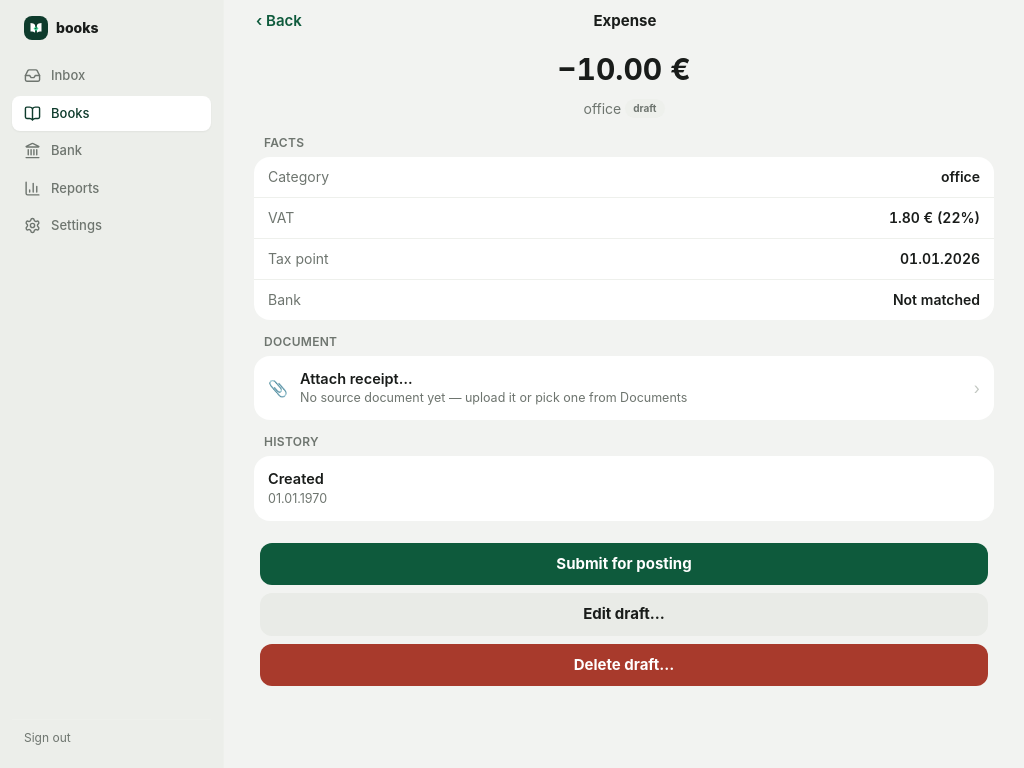
it: unsaved-changes guard on the production routes (#250) › same screen, another object: asks, and after Discard no sheet or draft follows to the new id
Click the button "Edit draft…". click: (624,614)
box: top-left (260, 593), bottom-right (988, 636)
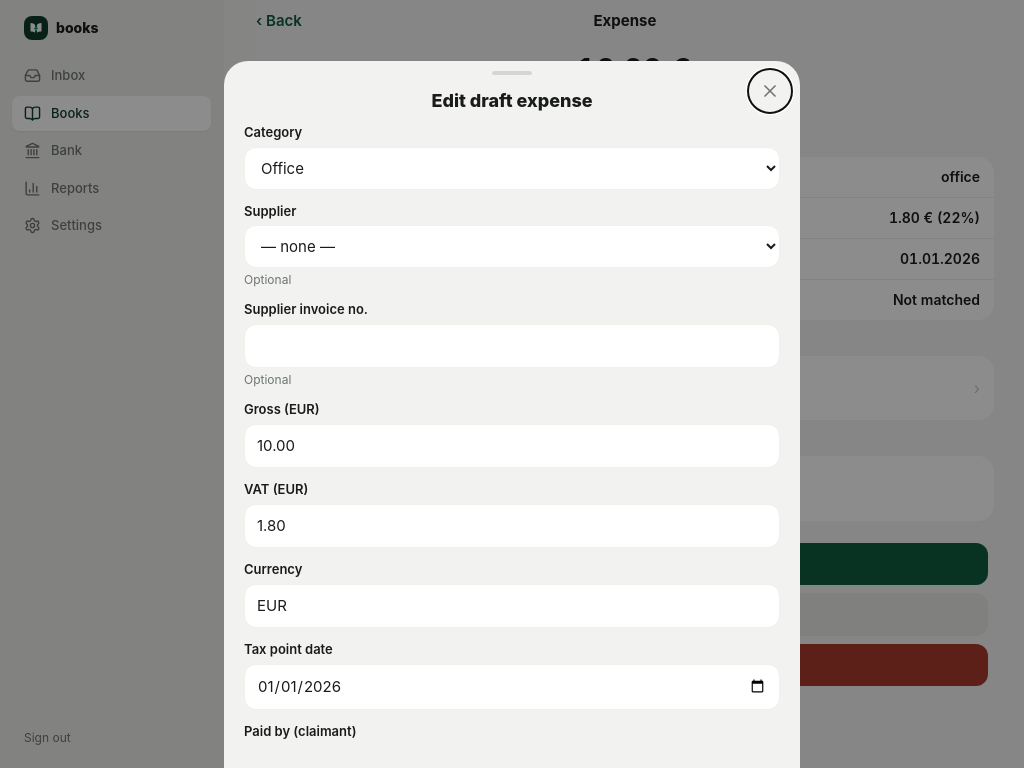
Replace the text in the field labelled "Gross (EUR)" with "99.00". click: (512,446)
box: top-left (244, 424), bottom-right (780, 468)
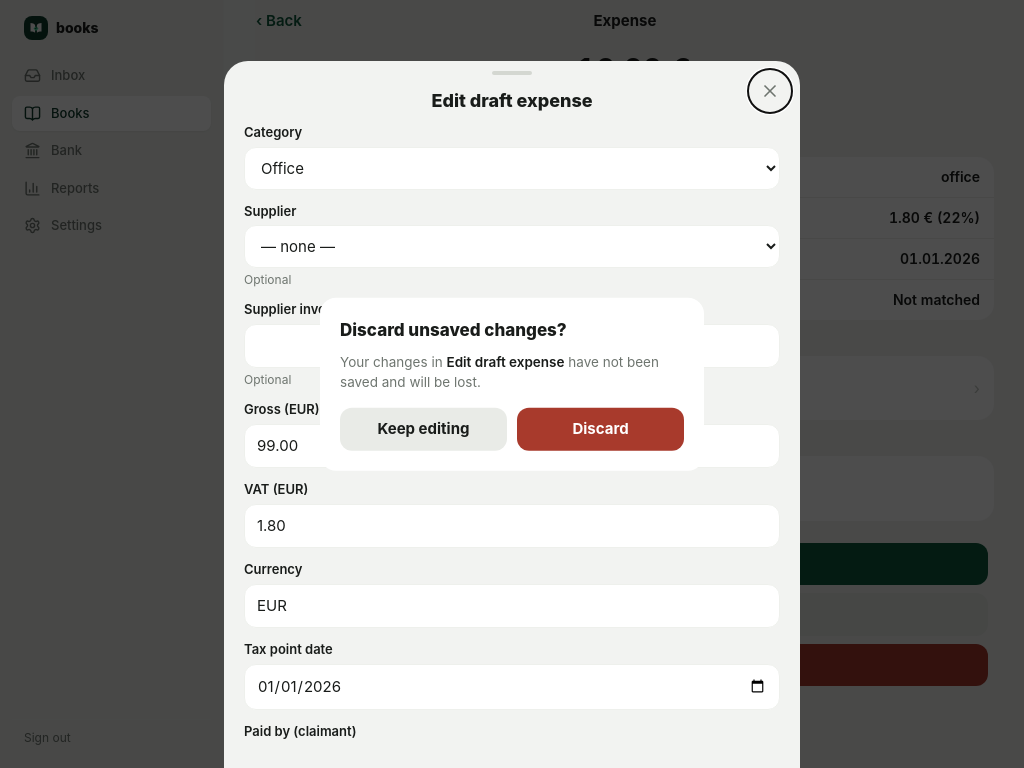
Expected: the dialog "Edit draft expense" is shown, top-left (224, 62), bottom-right (800, 767)
Click the button "Discard". click: (600,429)
box: top-left (517, 408), bottom-right (684, 450)
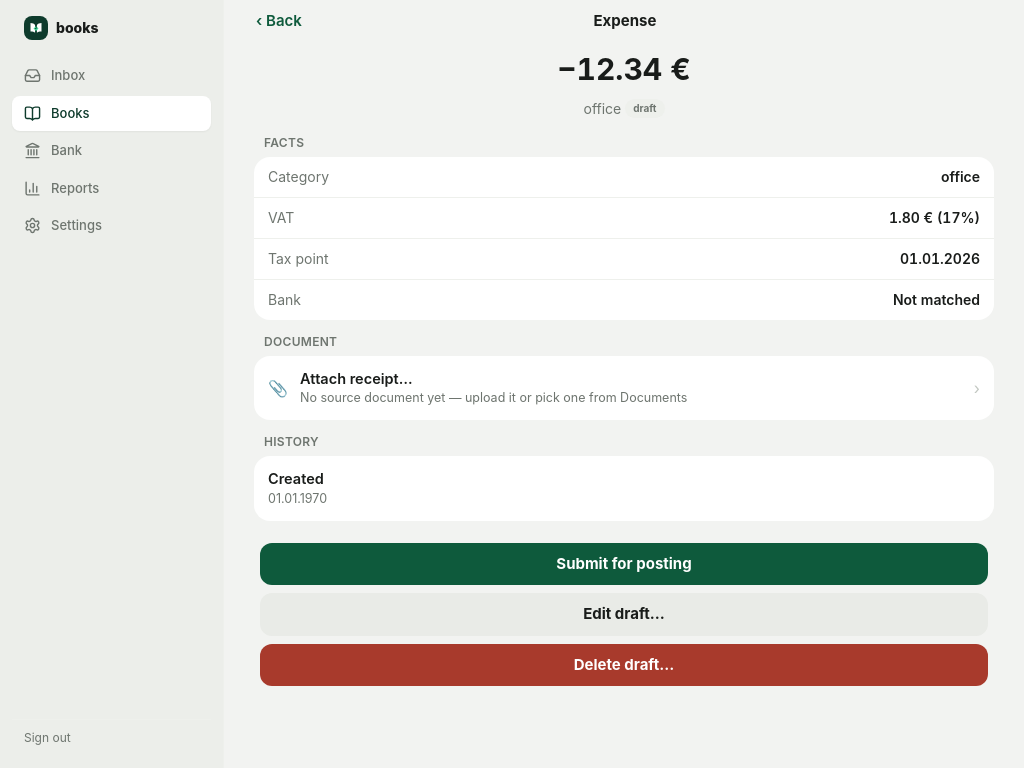
Expected: the text "−12.34 €" is shown, top-left (557, 50), bottom-right (691, 86)
Expected: the heading "Edit draft expense" is gone
Click the button "Edit draft…". click: (624,614)
box: top-left (260, 593), bottom-right (988, 636)
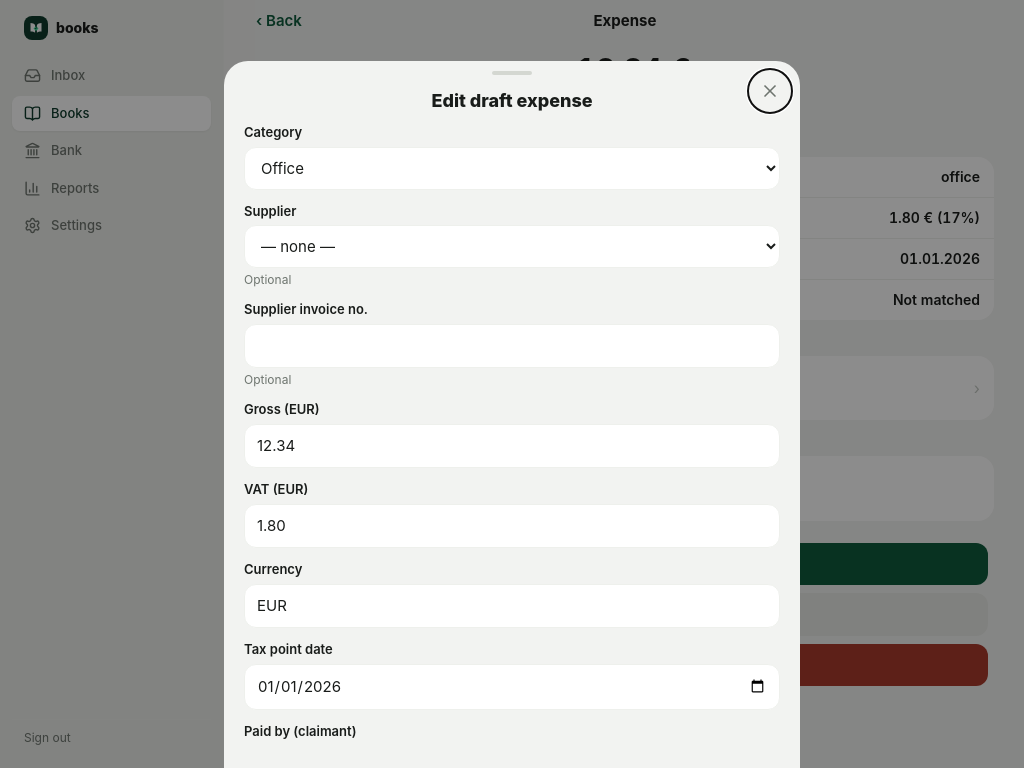
Expected: the field labelled "Gross (EUR)" holds "12.34", top-left (244, 424), bottom-right (780, 468)
